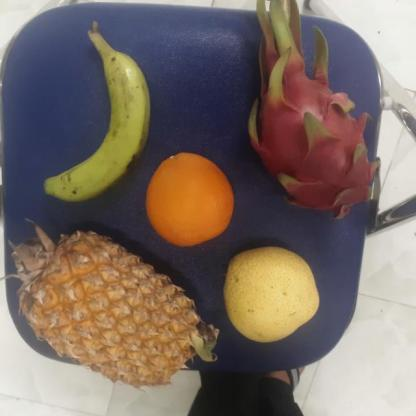banana: (44, 38, 148, 204)
orange: (144, 152, 236, 244)
pear: (217, 246, 323, 344)
pineapple: (3, 231, 207, 390)
pitaya: (240, 28, 378, 220)
